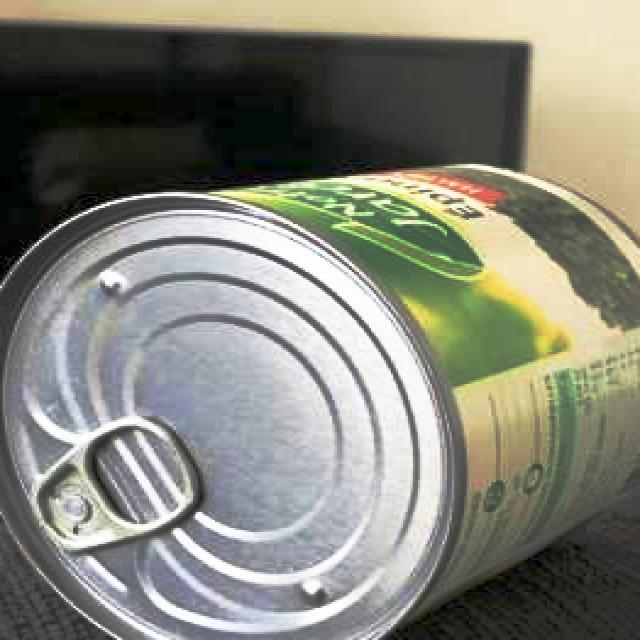Lata: (0, 165, 640, 640)
